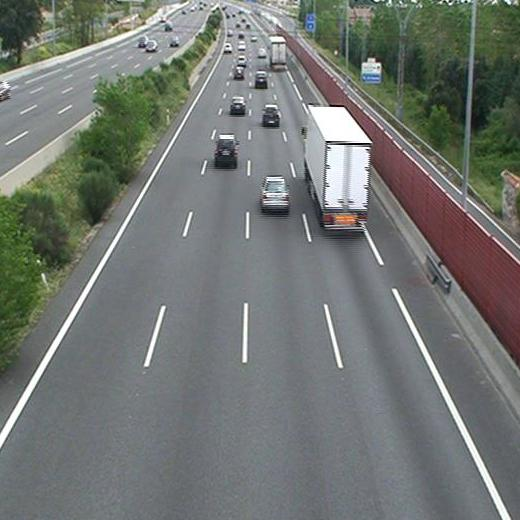car: (262, 177, 288, 210), (214, 135, 237, 162), (262, 106, 281, 125), (231, 97, 245, 111), (255, 72, 267, 86), (234, 66, 244, 77), (237, 55, 246, 65), (258, 48, 266, 57), (224, 43, 232, 52)
truck: (303, 105, 368, 229), (270, 35, 285, 69)
